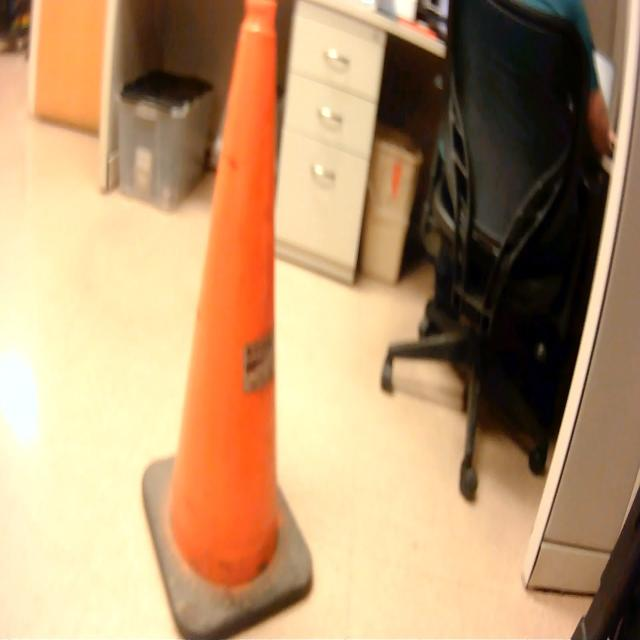traffic cone: (141, 1, 322, 640)
